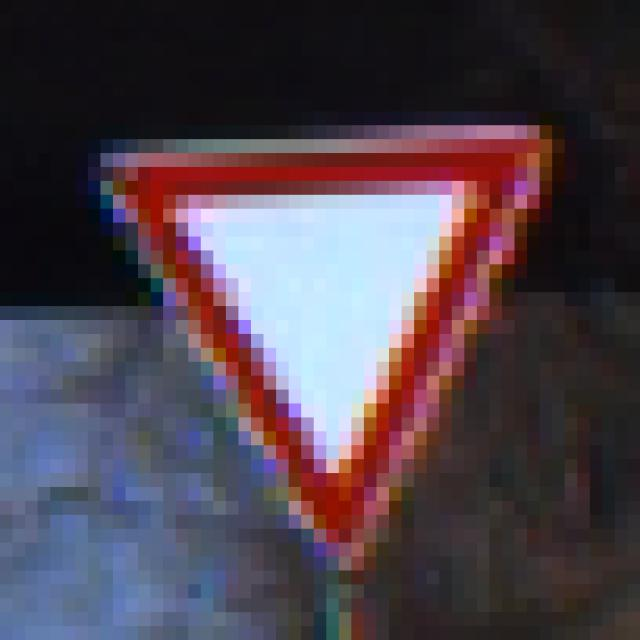Give Way: (77, 85, 579, 572)
